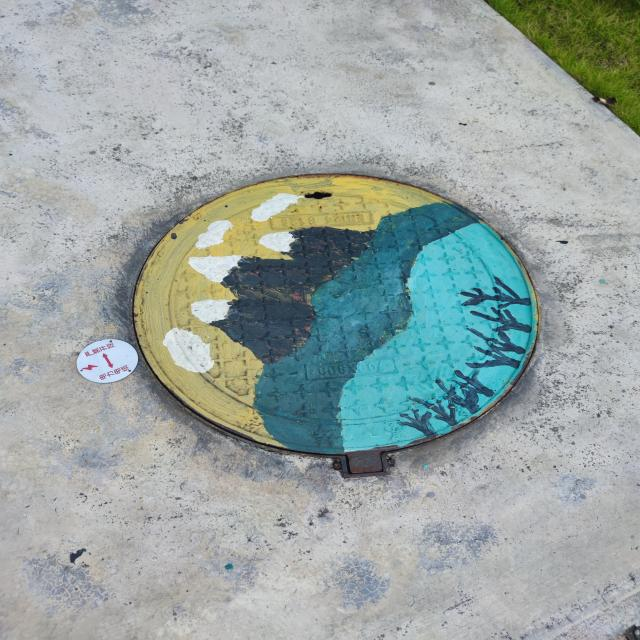Good: (126, 172, 547, 482)
